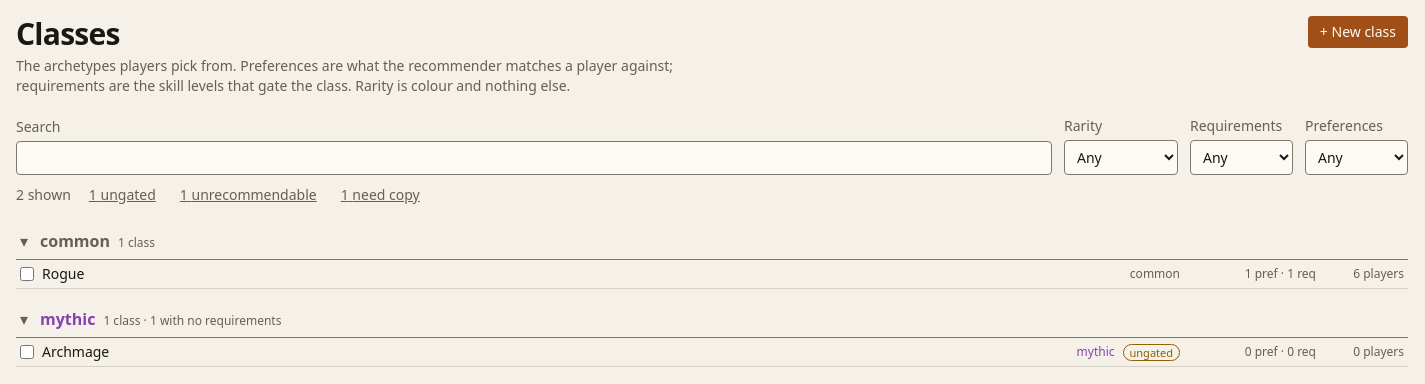
Test case: AdminClassesPage › filters to the classes with no requirements
Expected: the button "Rogue" is shown, [42,264,1122,284]
Select "None" in the dropdown labelled "Requirements": (1242, 158) [1190,140,1293,175]
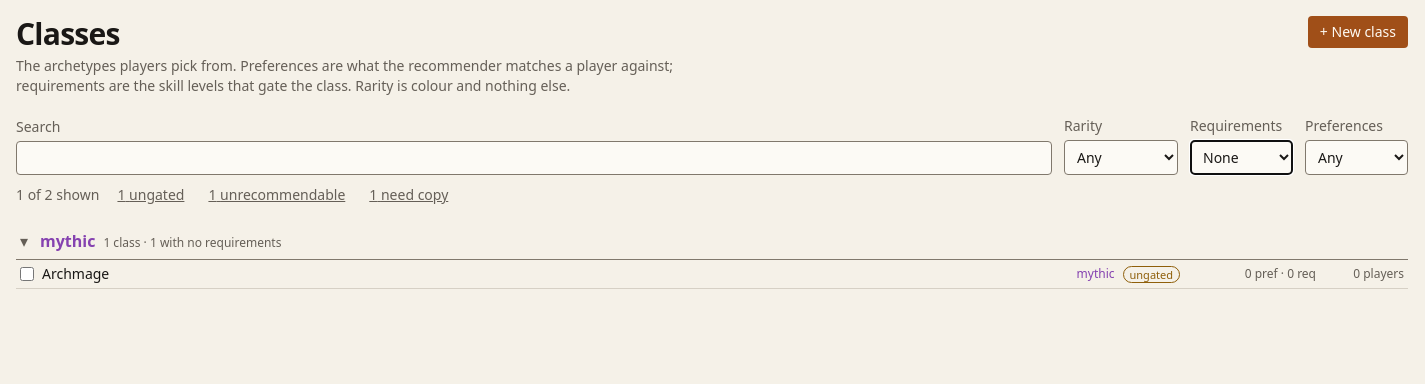
Expected: the button "Archmage" is shown, [42,264,1069,284]
Expected: the button "Rogue" is gone
